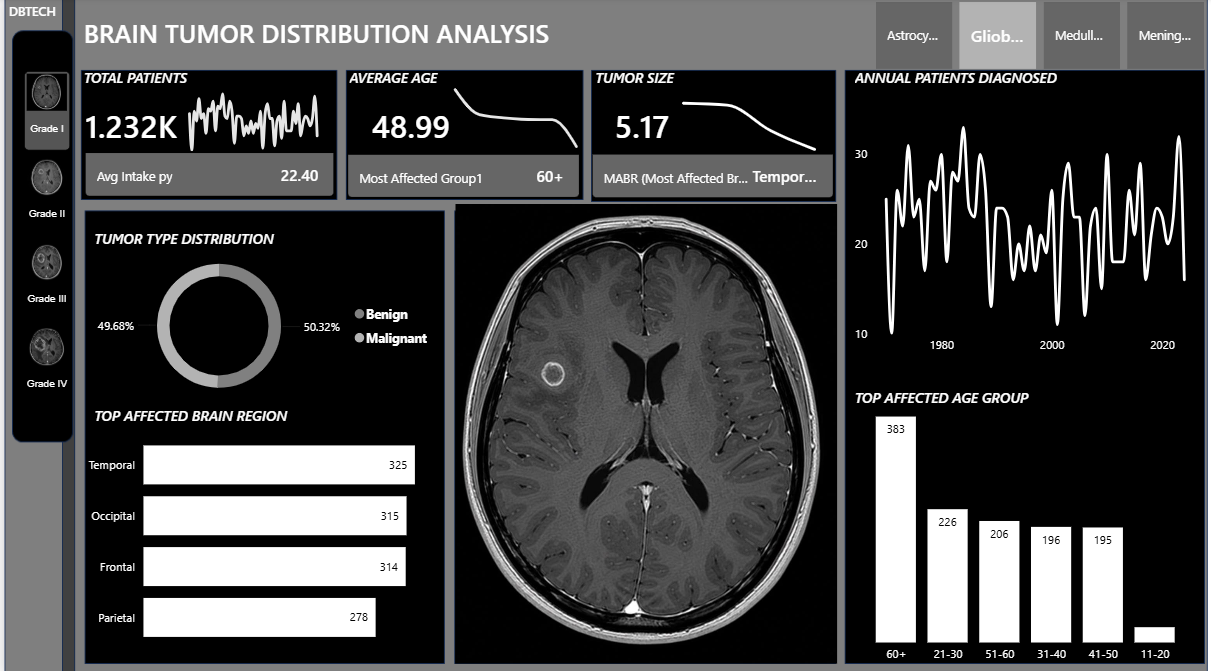

What the dashboard file says about the page in this screenshot:
{"tool":"powerbi","page":{"name":"Page 1","canvas":[1280,720],"ordinal":0},"visuals":[{"type":"cardVisual","fields":{"Data":["Count(BTD1.Patient_ID)"]},"box":[57.3,14.3,176.6,241.8],"z":0},{"type":"lineChart","fields":{"Category":["BTD1.Diagnosis Date.Variation.Date Hierarchy.Year"],"Y":["CountNonNull(BTD1.Patient_ID)"]},"box":[181.3,70,165.4,98.6],"z":1000},{"type":"textbox","box":[79.5,70,203.6,70],"z":3000},{"type":"cardVisual","fields":{"Data":["Avg(BTD1.Age)"]},"box":[361.1,30.2,155.9,210],"z":4000},{"type":"lineChart","fields":{"Category":["BTD1.Age Group"],"Y":["CountNonNull(BTD1.Patient_ID)"]},"box":[462.9,81.1,159.1,87.5],"z":5000},{"type":"cardVisual","fields":{"Data":["Count(BTD1.Patient_ID)"]},"box":[335.6,70,303.8,171.8],"z":6000},{"type":"textbox","box":[361.1,70,157.5,70],"z":7000},{"type":"cardVisual","fields":{"Data":["Avg(BTD1.Tumor_Size)"]},"box":[618.7,70,155.9,130.4],"z":8000},{"type":"lineChart","fields":{"Category":["BTD1.Location"],"Y":["Sum(BTD1.Tumor_Size)"]},"box":[696.7,85.9,186.1,82.7],"z":9000},{"type":"cardVisual","fields":{"Data":["Count(BTD1.Patient_ID)"]},"box":[594.9,68.4,313.4,173.4],"z":10000},{"type":"textbox","box":[621.9,70,264,49.3],"z":11000},{"type":"advancedSlicerVisual","fields":{"Values":["BTD1.Histology"]},"box":[919.4,0,361.1,81.1],"z":12000},{"type":"ChicletSlicer1448559807354","fields":{"Category":["brain tumor image.Grade "],"Image":["brain tumor image.Icon URL"]},"box":[13.2,69.9,66.1,393.1],"z":13000},{"type":"image","box":[478.1,219.2,404.4,487.6],"z":14000},{"type":"donutChart","fields":{"Category":["BTD1.Tumor_Type"],"Y":["Count(BTD1.Patient_ID)"]},"box":[79.5,256.1,383.3,184.5],"z":15000},{"type":"textbox","box":[90.7,240.2,210,100.2],"z":16000},{"type":"clusteredBarChart","fields":{"Category":["BTD1.Location"],"Y":["CountNonNull(BTD1.Patient_ID)"]},"box":[80,441,383,266],"z":17000},{"type":"textbox","box":[90.7,427.9,372.2,278.4],"z":18000},{"type":"lineChart","fields":{"Category":["BTD1.Diagnosis Date.Variation.Date Hierarchy.Year"],"Y":["CountNonNull(BTD1.Patient_ID)"]},"box":[897.1,105,372.2,281.5],"z":19000},{"type":"textbox","box":[897.1,70,372.2,70],"z":20000},{"type":"clusteredColumnChart","fields":{"Category":["BTD1.Age Group"],"Y":["CountNonNull(BTD1.Patient_ID)"]},"box":[897.1,419.9,372.2,294.3],"z":21000},{"type":"textbox","box":[897.1,408.8,203.6,103.4],"z":22000},{"type":"textbox","box":[79.5,14.3,839.8,54.1],"z":23000},{"type":"textbox","box":[0,0,114.5,68.4],"z":24000},{"type":"cardVisual","fields":{"Data":["Count(BTD1.Patient_ID)"]},"box":[57.3,66.8,321.3,173.4],"z":24001}]}

Visuals, with their boxes in screenshot pixels (x1, y1, x2, y2), scaled from the page's 1280x720 canvas onto the 1211x671 screenshot:
cardVisual - Count(BTD1.Patient_ID): rect(54, 13, 221, 239)
lineChart - BTD1.Diagnosis Date.Variation.Date Hierarchy.Year x CountNonNull(BTD1.Patient_ID): rect(172, 65, 328, 157)
textbox: rect(75, 65, 268, 130)
cardVisual - Avg(BTD1.Age): rect(342, 28, 489, 224)
lineChart - BTD1.Age Group x CountNonNull(BTD1.Patient_ID): rect(438, 76, 588, 157)
cardVisual - Count(BTD1.Patient_ID): rect(318, 65, 605, 225)
textbox: rect(342, 65, 491, 130)
cardVisual - Avg(BTD1.Tumor_Size): rect(585, 65, 733, 187)
lineChart - BTD1.Location x Sum(BTD1.Tumor_Size): rect(659, 80, 835, 157)
cardVisual - Count(BTD1.Patient_ID): rect(563, 64, 859, 225)
textbox: rect(588, 65, 838, 111)
advancedSlicerVisual - BTD1.Histology: rect(870, 0, 1210, 76)
ChicletSlicer1448559807354 - brain tumor image.Grade  x brain tumor image.Icon URL: rect(12, 65, 75, 431)
image: rect(452, 204, 835, 659)
donutChart - BTD1.Tumor_Type x Count(BTD1.Patient_ID): rect(75, 239, 438, 411)
textbox: rect(86, 224, 284, 317)
clusteredBarChart - BTD1.Location x CountNonNull(BTD1.Patient_ID): rect(76, 411, 438, 659)
textbox: rect(86, 399, 438, 658)
lineChart - BTD1.Diagnosis Date.Variation.Date Hierarchy.Year x CountNonNull(BTD1.Patient_ID): rect(849, 98, 1201, 360)
textbox: rect(849, 65, 1201, 130)
clusteredColumnChart - BTD1.Age Group x CountNonNull(BTD1.Patient_ID): rect(849, 391, 1201, 666)
textbox: rect(849, 381, 1041, 477)
textbox: rect(75, 13, 870, 64)
textbox: rect(0, 0, 108, 64)
cardVisual - Count(BTD1.Patient_ID): rect(54, 62, 358, 224)
